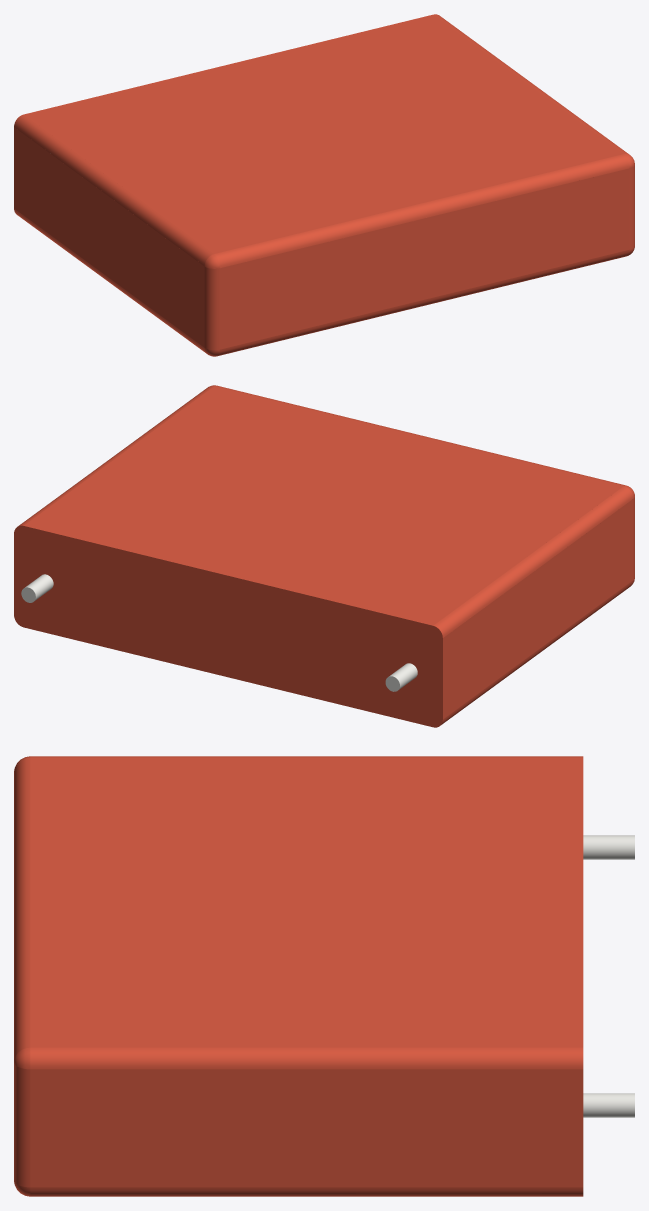
The model's file is C_Rect_L26.5mm_W6.0mm_P22.50mm_MKS4.glb.
3 views of the same model, one above another, from view 1: azimuth 30°, elevation 25°; view 2: azimuth 150°, elevation 25°; view 3: azimuth 270°, elevation 25° (orthographic). The views are drawn at different scales.
Visible parts, largest first — view 1: Shape_IndexedFaceSet.009, Shape_IndexedFaceSet.007, Shape_IndexedFaceSet, Shape_IndexedFaceSet.016, Shape_IndexedFaceSet.004, Shape_IndexedFaceSet.015, Shape_IndexedFaceSet.002, Shape_IndexedFaceSet.001, Shape_IndexedFaceSet.011, Shape_IndexedFaceSet.017; view 2: Shape_IndexedFaceSet.009, Shape_IndexedFaceSet.003, Shape_IndexedFaceSet, Shape_IndexedFaceSet.004, Shape_IndexedFaceSet.001, Shape_IndexedFaceSet.016, Shape_IndexedFaceSet.011; view 3: Shape_IndexedFaceSet.009, Shape_IndexedFaceSet.012, Shape_IndexedFaceSet.011, Shape_IndexedFaceSet.010, Shape_IndexedFaceSet.016, Shape_IndexedFaceSet.017, Shape_IndexedFaceSet.013, Shape_IndexedFaceSet.014, Shape_IndexedFaceSet.004.
Boxes of the visible parts, <box> form: Shape_IndexedFaceSet.009: <box>24,14,623,253</box>; Shape_IndexedFaceSet.007: <box>220,168,629,349</box>; Shape_IndexedFaceSet: <box>14,127,204,347</box>; Shape_IndexedFaceSet.016: <box>214,154,629,268</box>; Shape_IndexedFaceSet.004: <box>14,114,213,266</box>; Shape_IndexedFaceSet.015: <box>218,250,629,355</box>; Shape_IndexedFaceSet.002: <box>204,267,219,350</box>; Shape_IndexedFaceSet.001: <box>14,208,206,353</box>; Shape_IndexedFaceSet.011: <box>433,14,628,154</box>; Shape_IndexedFaceSet.017: <box>629,165,634,249</box>; Shape_IndexedFaceSet.009: <box>24,386,623,625</box>; Shape_IndexedFaceSet.003: <box>14,525,442,727</box>; Shape_IndexedFaceSet: <box>443,499,633,719</box>; Shape_IndexedFaceSet.004: <box>433,486,633,637</box>; Shape_IndexedFaceSet.001: <box>441,580,633,724</box>; Shape_IndexedFaceSet.016: <box>215,385,625,486</box>; Shape_IndexedFaceSet.011: <box>19,386,213,525</box>; Shape_IndexedFaceSet.009: <box>30,757,583,1047</box>; Shape_IndexedFaceSet.012: <box>30,1069,583,1187</box>; Shape_IndexedFaceSet.011: <box>30,1047,583,1069</box>; Shape_IndexedFaceSet.010: <box>30,1187,583,1196</box>; Shape_IndexedFaceSet.016: <box>14,758,30,1060</box>; Shape_IndexedFaceSet.017: <box>14,1063,30,1187</box>; Shape_IndexedFaceSet.013: <box>583,835,634,859</box>; Shape_IndexedFaceSet.014: <box>583,1093,634,1117</box>; Shape_IndexedFaceSet.004: <box>30,756,583,757</box>.
Bounding box in the file's own units: 10.43 × 2.36 × 9.02.
